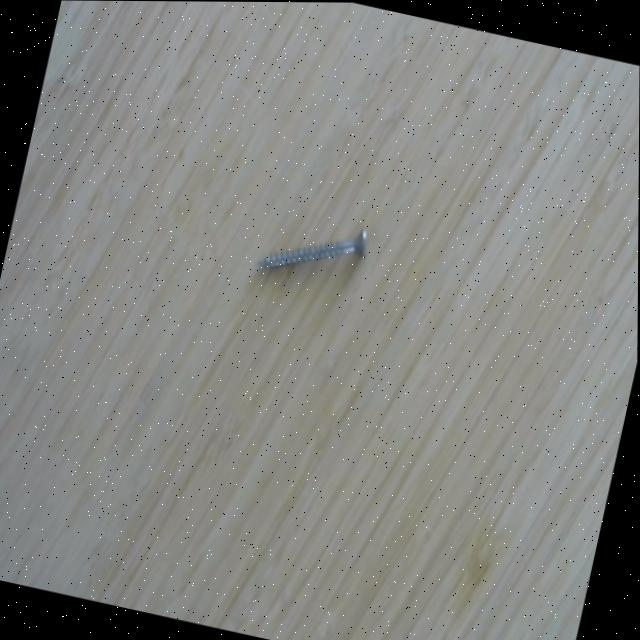Black screw: (252, 220, 376, 277)
